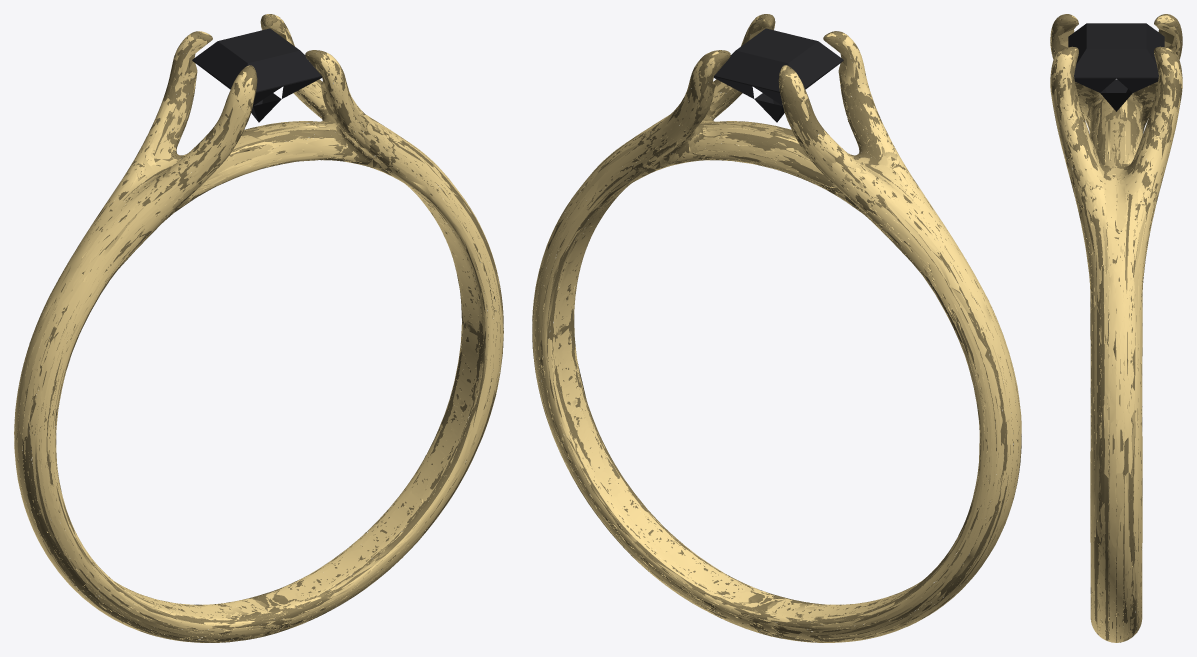
The model's file is ring_princess.glb.
3 views of the same model, side by side, from view 1: azimuth 30°, elevation 25°; view 2: azimuth 150°, elevation 25°; view 3: azimuth 270°, elevation 25° (orthographic).
Parts seen in each view (by area): view 1: Band, Diamond; view 2: Band, Diamond; view 3: Band, Diamond.
Boxes of the visible parts, x1,y1,x2,y2 form: Band: (14, 14, 503, 642); Diamond: (192, 28, 321, 122); Band: (532, 14, 1021, 642); Diamond: (714, 28, 843, 122); Band: (1050, 14, 1182, 642); Diamond: (1068, 23, 1164, 111).
Bounding box in the file's own units: 20.18 × 23.68 × 4.86.
Materials: 2 (1 with a texture image).
